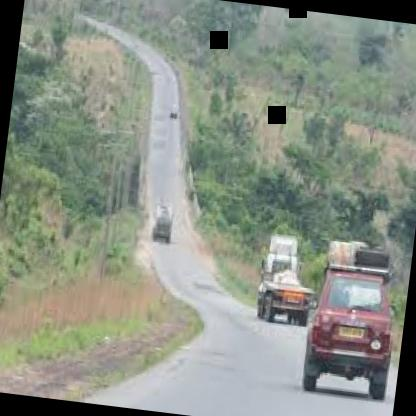car: (284, 229, 412, 407), (246, 220, 329, 335), (150, 202, 177, 247)
